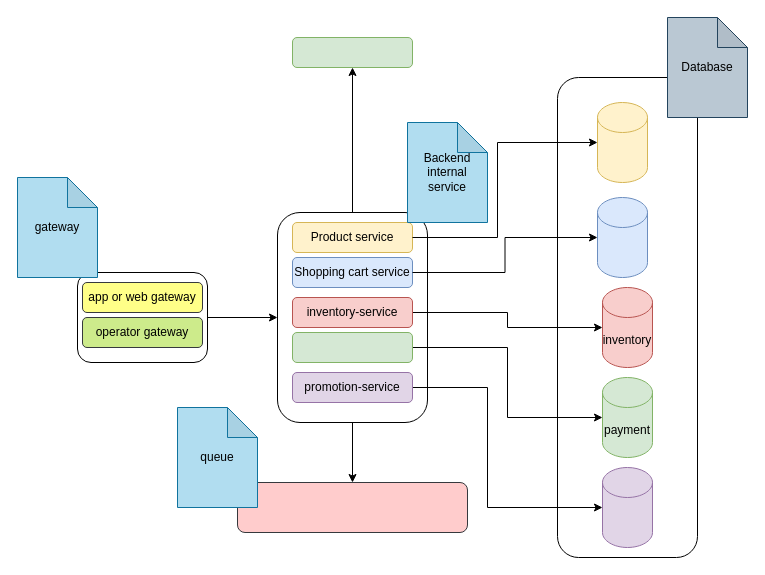
This 765x575 diagram has some shape labels left out. Here are the shapes that lost their labels. From the top down, the centre of each, then its label:
At pixel 352 52: "Registry".
At pixel 622 142: "product".
At pixel 622 237: "shopping cart".
At pixel 352 347: "payment-service".
At pixel 352 507: "kafka queue".
At pixel 627 507: "promotion".
